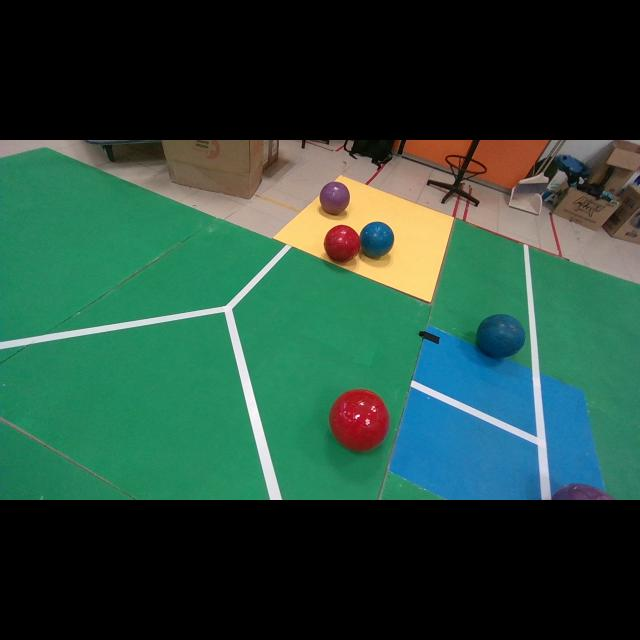B: (478, 314, 524, 358), (360, 221, 394, 258)
P: (551, 484, 615, 500), (320, 181, 350, 215)
R: (329, 390, 390, 451), (324, 225, 361, 262)
